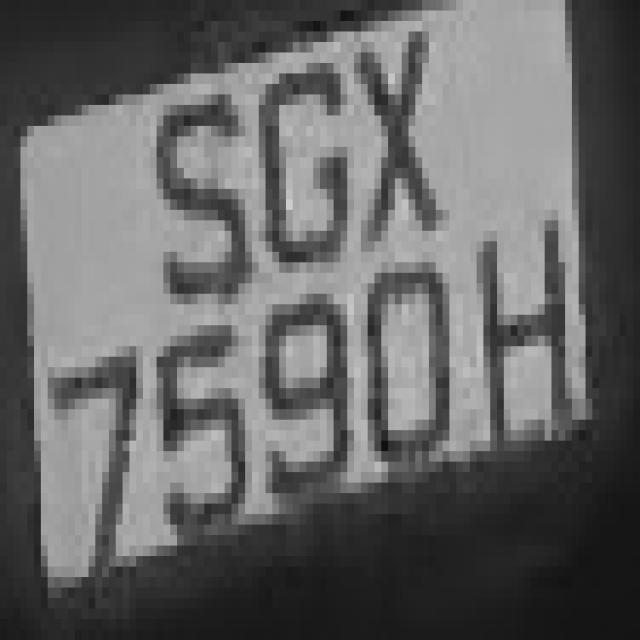0: (334, 220, 469, 514)
5: (143, 304, 252, 567)
7: (20, 314, 150, 566)
9: (245, 252, 361, 546)
G: (245, 42, 368, 294)
H: (463, 178, 579, 524)
S: (136, 63, 266, 315)
X: (327, 0, 463, 252)
